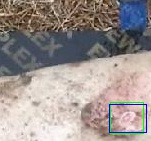text: (110, 102, 143, 133)
